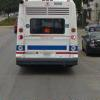Bus: (11, 1, 85, 74)
